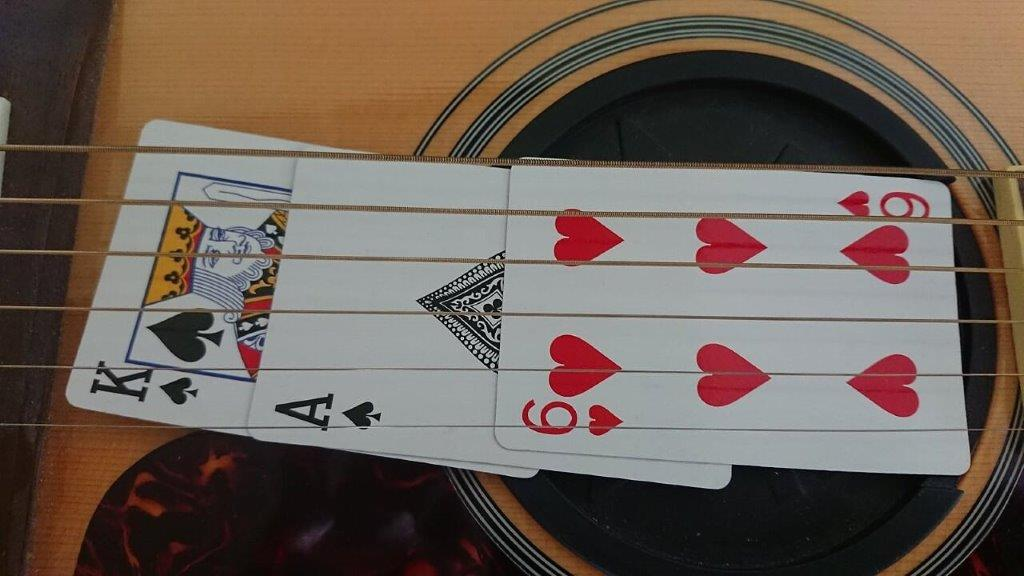6H: (492, 154, 974, 477)
AS: (245, 149, 489, 467)
KS: (64, 119, 243, 440)
